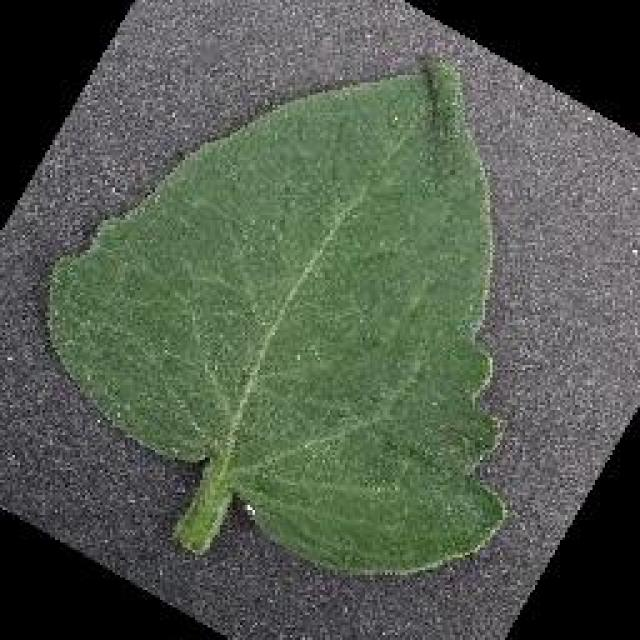Tomato___healthy: (48, 55, 518, 576)
